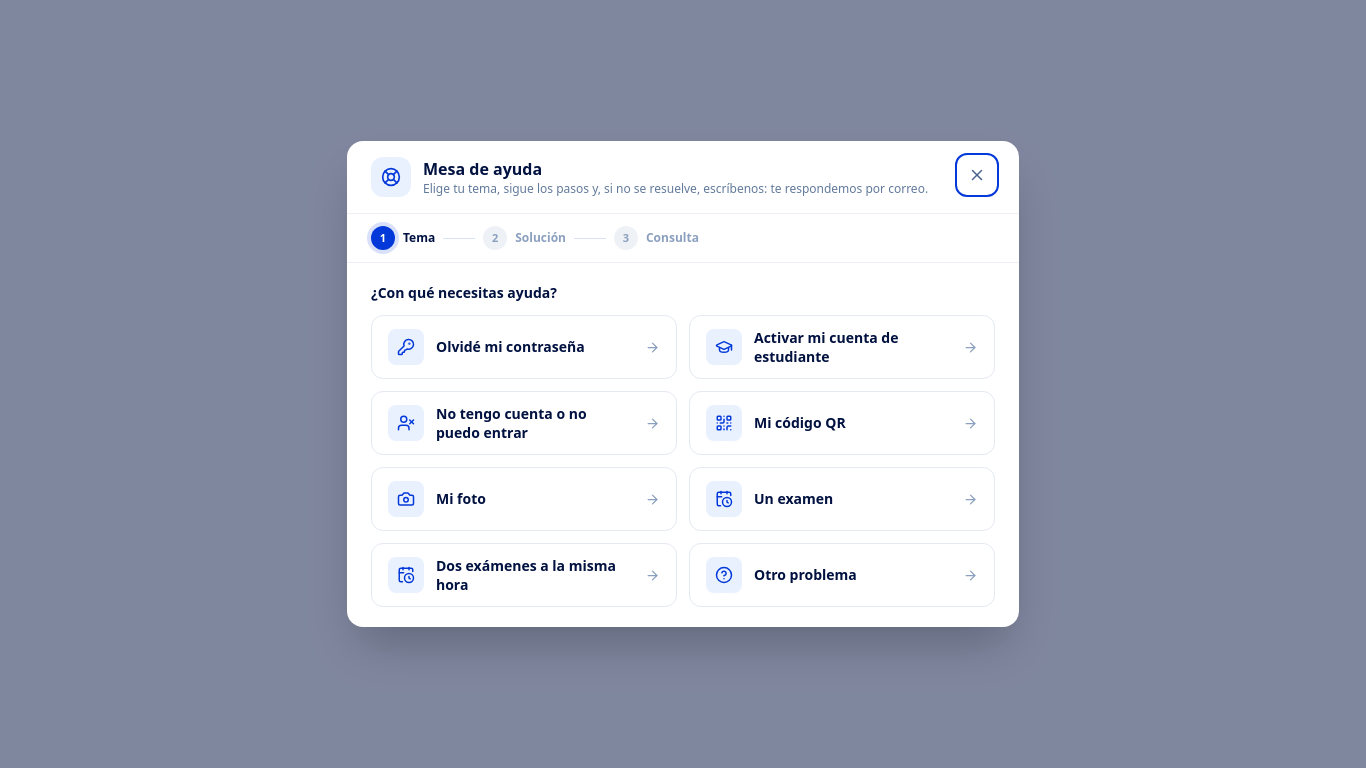
Scenario: Mesa de ayuda › «Otro problema» va directo a escribir; avisa si se enviaron muchas consultas seguidas
Click the button "Otro problema" at (842, 575), box [689, 543, 995, 607]
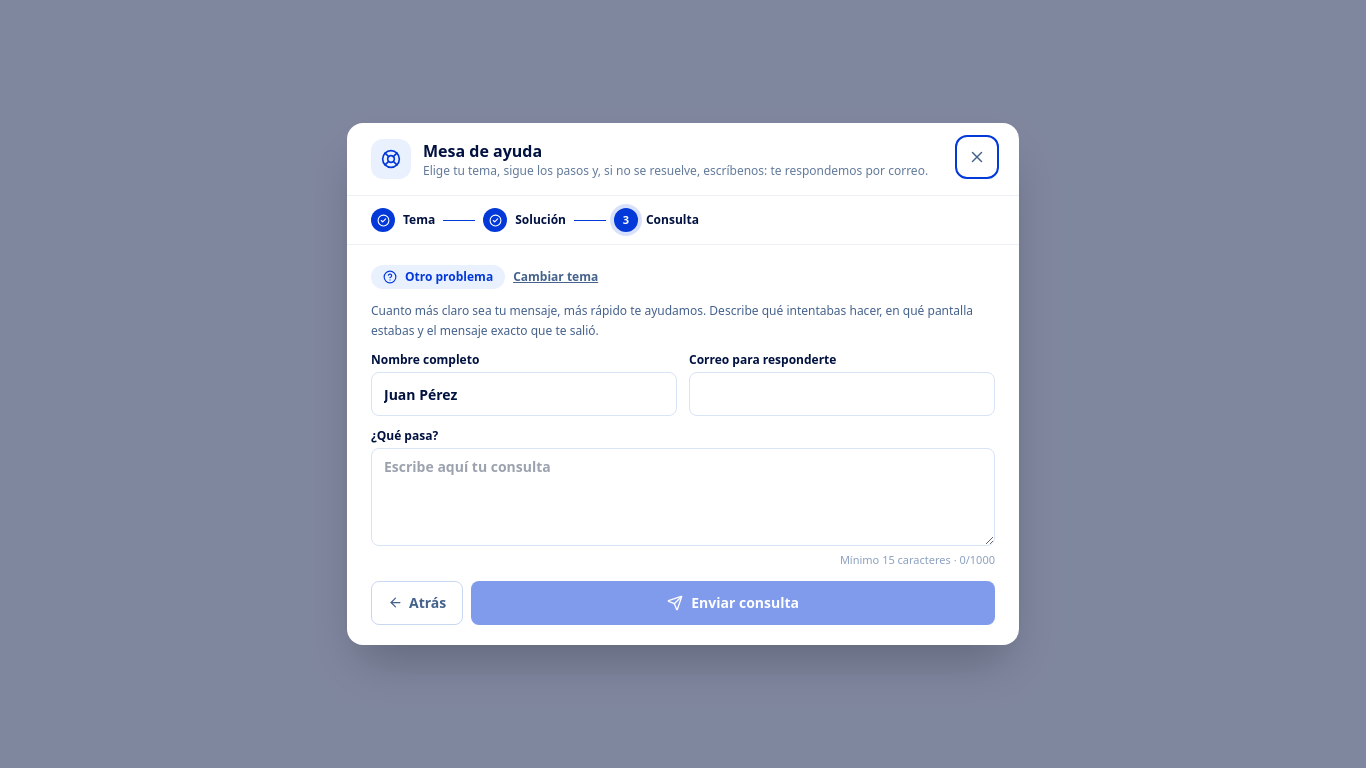
Check: the field labelled "Nombre completo" holds "Juan Pérez"
Replace the text in the field labelled "Nombre completo" with "Ana Pérez" at (524, 394), box [371, 372, 677, 416]
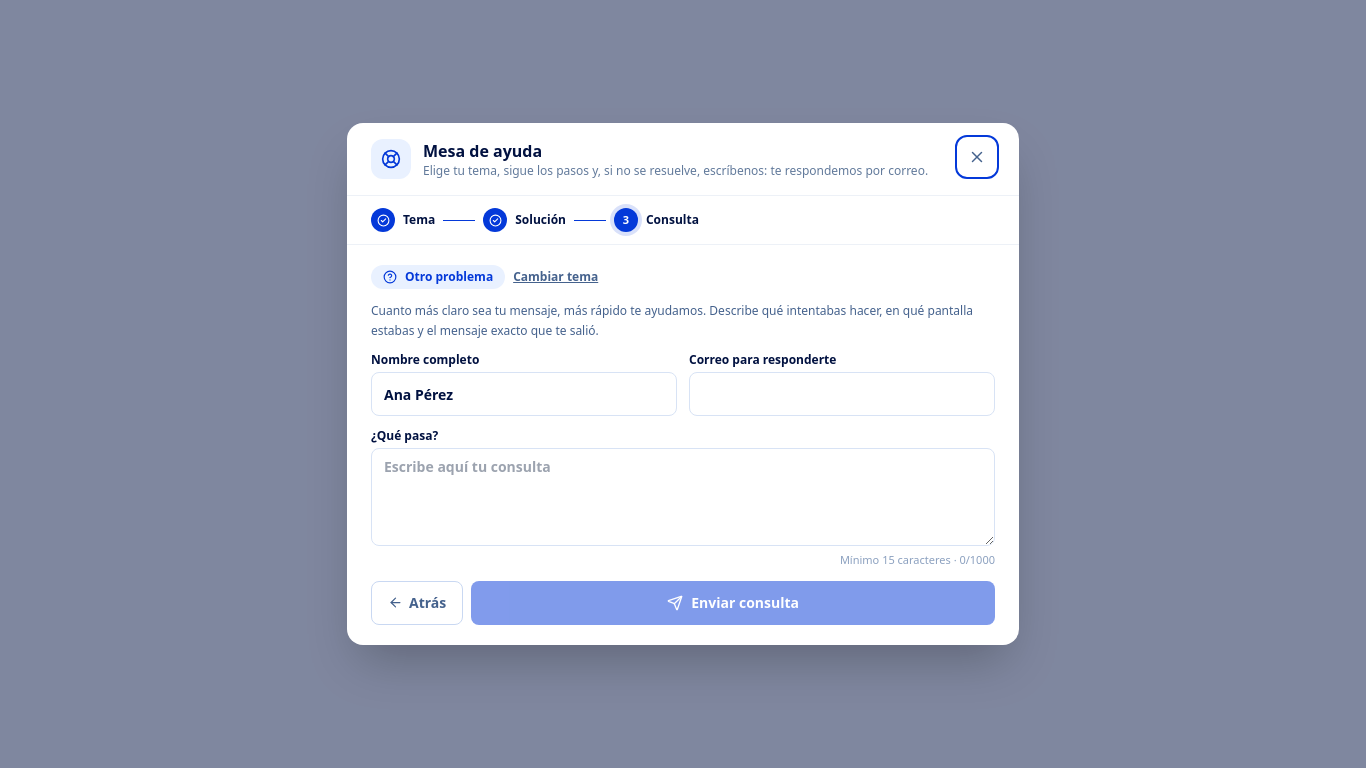
Type "ana@est.umss.edu" into the field labelled "Correo para responderte" at (842, 394), box [689, 372, 995, 416]
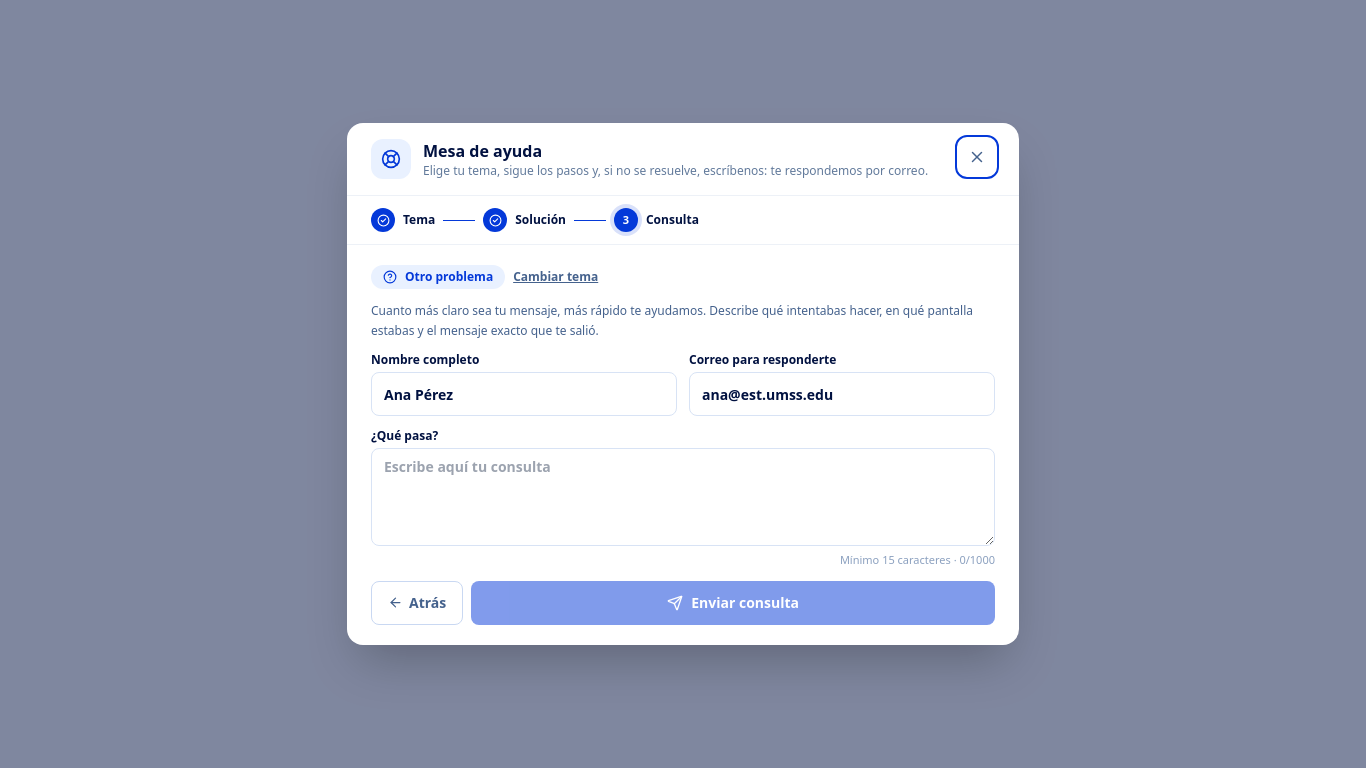
Type "No me llega el código para activar mi cuenta." into the text box labelled "¿Qué pasa?" at (683, 497), box [371, 448, 995, 546]
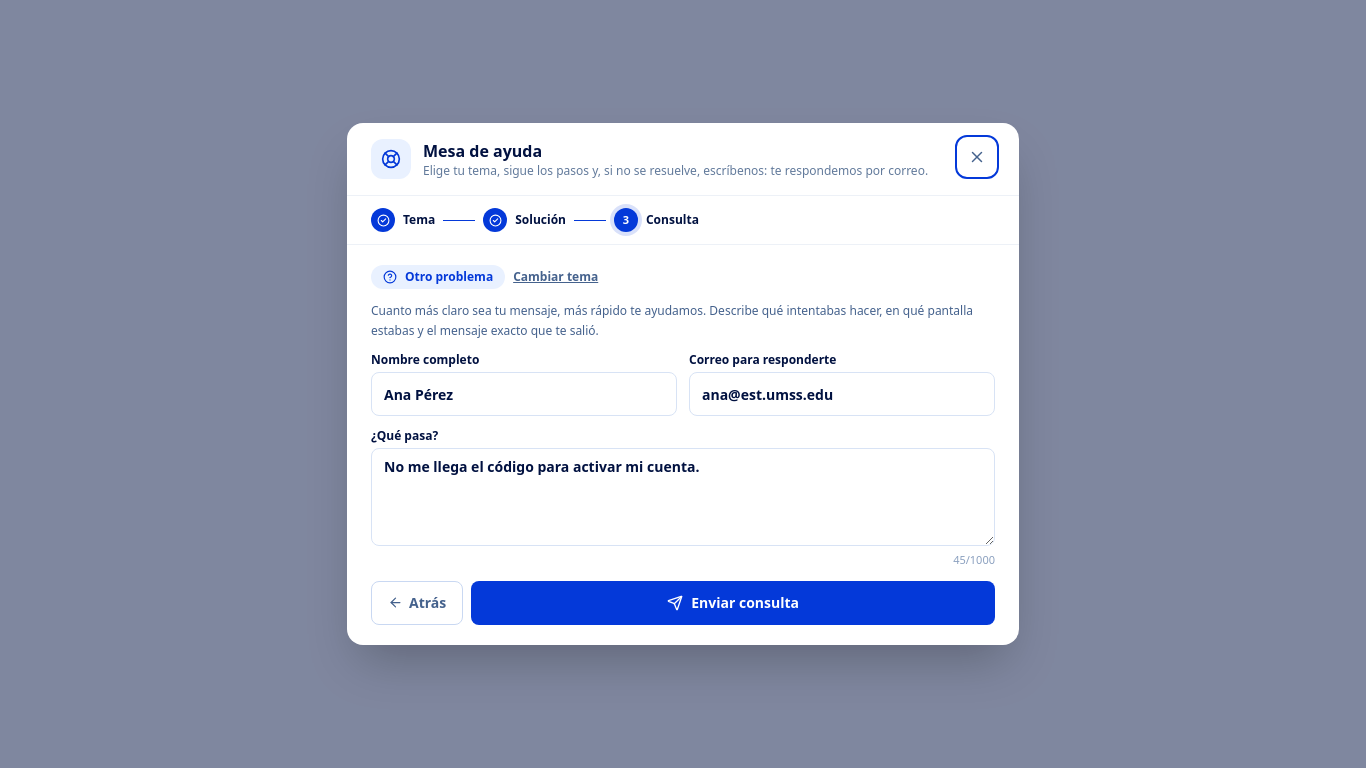
Click the button "Enviar consulta" at (733, 603), box [471, 581, 995, 625]
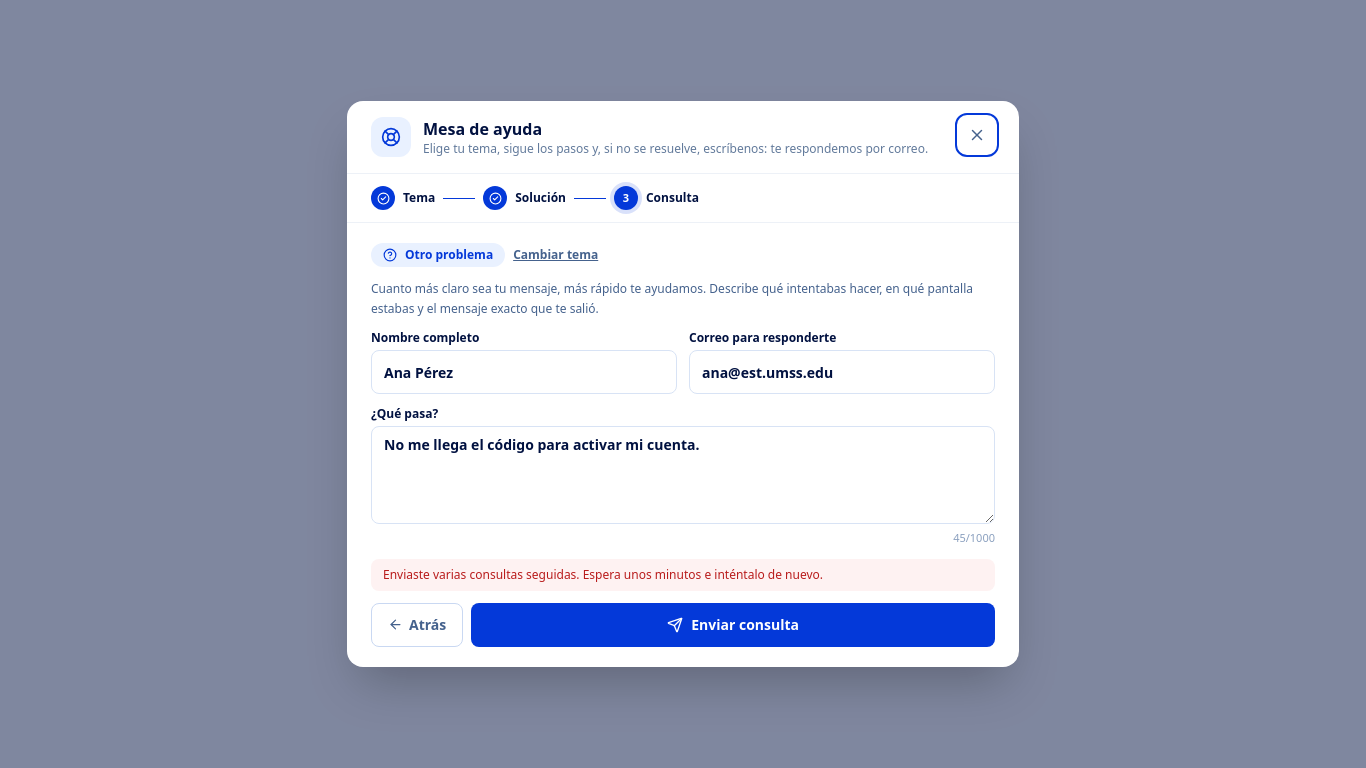
Check: the message shows "Espera unos minutos", box [383, 566, 823, 583]
